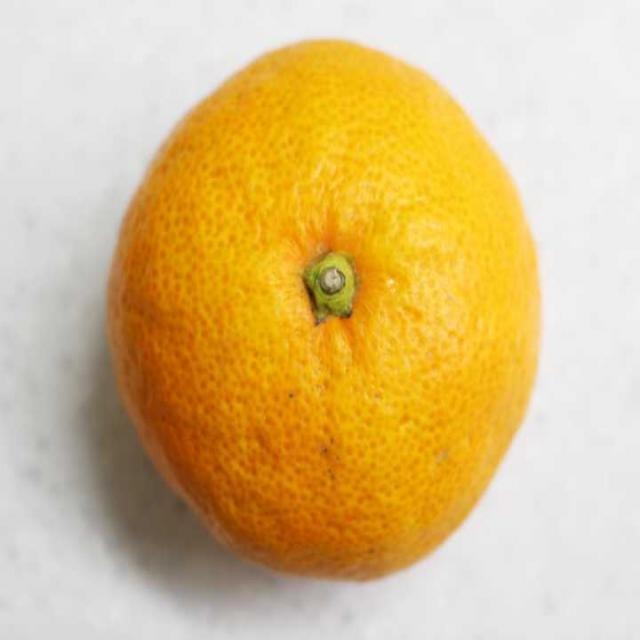Orange: (117, 39, 542, 581)
